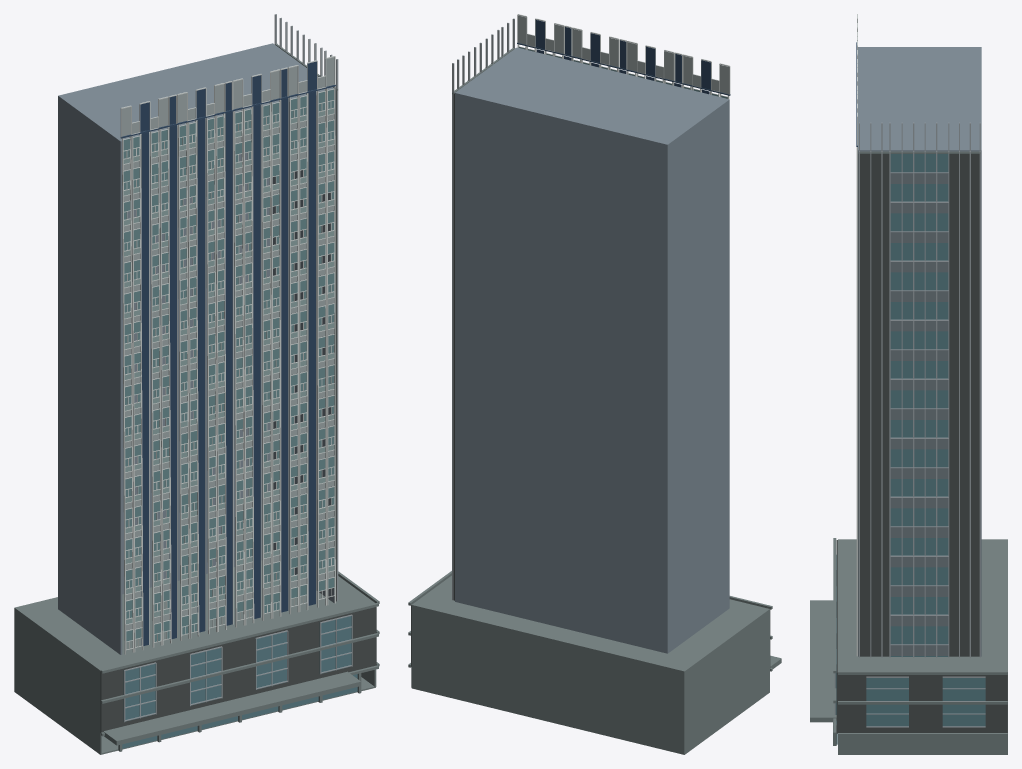
Rendered from detail.glb.
The picture shows the model from 3 angles, left to right: view 1: azimuth 30°, elevation 25°; view 2: azimuth 150°, elevation 25°; view 3: azimuth 270°, elevation 25°; orthographic projection.
Visible parts, largest first — view 1: OBSERVED_D_Approx_frame, ASSUMED_ENVELOPE_HIDEABLEE_ASSUMED_plain_side_back_roof, OBSERVED_D_Glazing_opaque_preview_not_optical_claim, OBSERVED_D_Observed_dark_blue_skin_material_unknown, F_VISIBLE_RIGHT_SHORTSIDE_HIDEABLE_F_crown_fold_metal, OBSERVED_D_Observed_gray_spandrel_skin_material_unknown, F_VISIBLE_RIGHT_SHORTSIDE_HIDEABLE_F_frame_appearance, OBSERVED_D_Neutral_lower_appearance_NOT_wall_NOT_glass, F_VISIBLE_RIGHT_SHORTSIDE_HIDEABLE_F_blue_window_appearance, F_VISIBLE_RIGHT_SHORTSIDE_HIDEABLE_F_stone_appearance; view 2: ASSUMED_ENVELOPE_HIDEABLEE_ASSUMED_plain_side_back_roof, F_VISIBLE_RIGHT_SHORTSIDE_HIDEABLE_F_crown_fold_metal, OBSERVED_D_Observed_gray_spandrel_skin_material_unknown, OBSERVED_D_Observed_dark_blue_skin_material_unknown, F_VISIBLE_RIGHT_SHORTSIDE_HIDEABLE_F_stone_appearance, OBSERVED_D_Approx_frame, F_VISIBLE_RIGHT_SHORTSIDE_HIDEABLE_F_frame_appearance; view 3: F_VISIBLE_RIGHT_SHORTSIDE_HIDEABLE_F_frame_appearance, F_VISIBLE_RIGHT_SHORTSIDE_HIDEABLE_F_blue_window_appearance, F_VISIBLE_RIGHT_SHORTSIDE_HIDEABLE_F_crown_fold_metal, ASSUMED_ENVELOPE_HIDEABLEE_ASSUMED_plain_side_back_roof, F_VISIBLE_RIGHT_SHORTSIDE_HIDEABLE_F_stone_appearance, F_VISIBLE_RIGHT_SHORTSIDE_HIDEABLE_F_brown_spandrel_appearan, OBSERVED_D_Approx_frame.
Boxes of the visible parts, x1,y1,x2,y2 form: OBSERVED_D_Approx_frame: [120, 56, 335, 654]; ASSUMED_ENVELOPE_HIDEABLEE_ASSUMED_plain_side_back_roof: [58, 43, 335, 654]; OBSERVED_D_Glazing_opaque_preview_not_optical_claim: [123, 89, 334, 641]; OBSERVED_D_Observed_dark_blue_skin_material_unknown: [120, 61, 336, 645]; F_VISIBLE_RIGHT_SHORTSIDE_HIDEABLE_F_crown_fold_metal: [14, 44, 379, 754]; OBSERVED_D_Observed_gray_spandrel_skin_material_unknown: [121, 57, 334, 630]; F_VISIBLE_RIGHT_SHORTSIDE_HIDEABLE_F_frame_appearance: [100, 89, 376, 732]; OBSERVED_D_Neutral_lower_appearance_NOT_wall_NOT_glass: [123, 108, 334, 624]; F_VISIBLE_RIGHT_SHORTSIDE_HIDEABLE_F_blue_window_appearance: [122, 616, 357, 748]; F_VISIBLE_RIGHT_SHORTSIDE_HIDEABLE_F_stone_appearance: [124, 14, 352, 722]; ASSUMED_ENVELOPE_HIDEABLEE_ASSUMED_plain_side_back_roof: [455, 47, 729, 653]; F_VISIBLE_RIGHT_SHORTSIDE_HIDEABLE_F_crown_fold_metal: [408, 48, 781, 754]; OBSERVED_D_Observed_gray_spandrel_skin_material_unknown: [518, 15, 729, 94]; OBSERVED_D_Observed_dark_blue_skin_material_unknown: [517, 20, 730, 95]; F_VISIBLE_RIGHT_SHORTSIDE_HIDEABLE_F_stone_appearance: [452, 18, 514, 600]; OBSERVED_D_Approx_frame: [517, 14, 730, 98]; F_VISIBLE_RIGHT_SHORTSIDE_HIDEABLE_F_frame_appearance: [411, 93, 770, 670]; F_VISIBLE_RIGHT_SHORTSIDE_HIDEABLE_F_frame_appearance: [836, 154, 1007, 733]; F_VISIBLE_RIGHT_SHORTSIDE_HIDEABLE_F_blue_window_appearance: [835, 154, 985, 744]; F_VISIBLE_RIGHT_SHORTSIDE_HIDEABLE_F_crown_fold_metal: [810, 151, 1007, 754]; ASSUMED_ENVELOPE_HIDEABLEE_ASSUMED_plain_side_back_roof: [858, 47, 981, 656]; F_VISIBLE_RIGHT_SHORTSIDE_HIDEABLE_F_stone_appearance: [834, 122, 985, 727]; F_VISIBLE_RIGHT_SHORTSIDE_HIDEABLE_F_brown_spandrel_appearan: [890, 173, 948, 655]; OBSERVED_D_Approx_frame: [856, 14, 857, 656].
Bounding box in the file's own units: 20.82 × 44.99 × 12.94.
